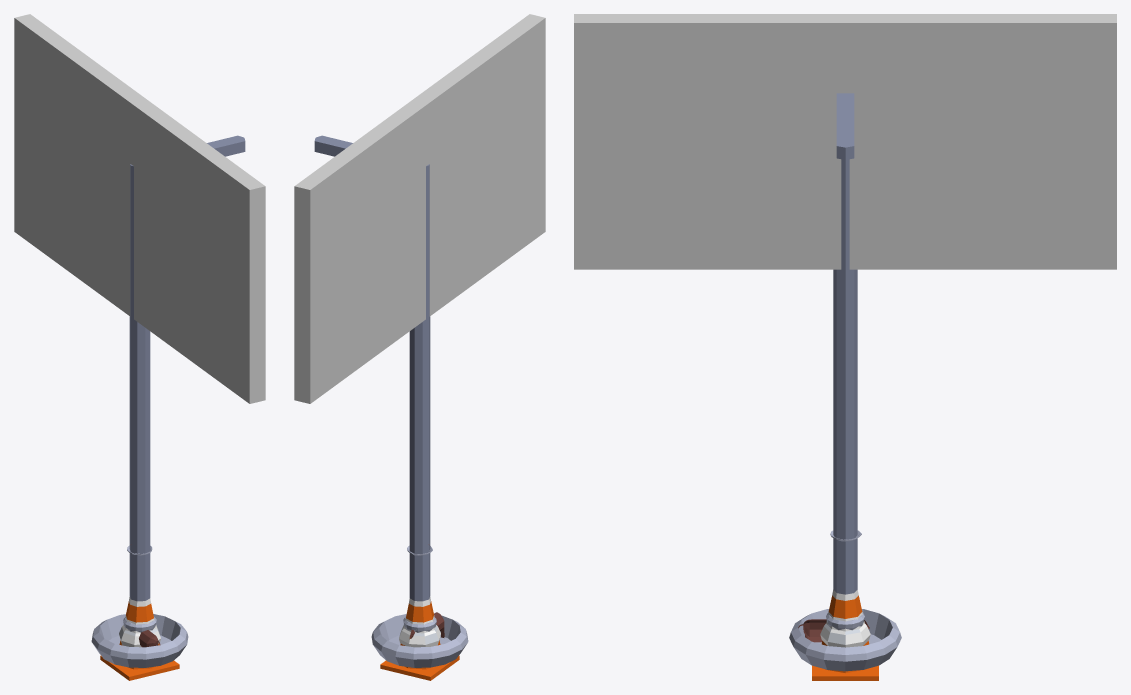
Rendered from ClutterPach1.glb.
The picture shows the model from 3 angles, left to right: view 1: azimuth 30°, elevation 25°; view 2: azimuth 150°, elevation 25°; view 3: azimuth 270°, elevation 25°; orthographic projection. The views are drawn at different scales.
Parts seen in each view (by area): view 1: Billboard, StreetLight, Fountain, Cone, SmokeShroom; view 2: Billboard, StreetLight, Fountain, Cone, SmokeShroom; view 3: Billboard, StreetLight, Fountain, Cone, SmokeShroom.
Boxes of the visible parts, <box> form: Billboard: <box>14,14,265,403</box>; StreetLight: <box>129,135,245,601</box>; Fountain: <box>91,544,188,667</box>; Cone: <box>100,596,179,680</box>; SmokeShroom: <box>119,625,160,647</box>; Billboard: <box>294,14,545,403</box>; StreetLight: <box>314,135,430,601</box>; Fountain: <box>371,544,468,667</box>; Cone: <box>380,596,459,680</box>; SmokeShroom: <box>399,625,440,647</box>; Billboard: <box>574,14,1116,269</box>; StreetLight: <box>833,93,857,594</box>; Fountain: <box>789,530,901,671</box>; Cone: <box>812,589,878,680</box>; SmokeShroom: <box>820,623,870,647</box>.
Size of the model in its own units: 15.87 by 58.12 by 44.1.
1 material, 1 textured.
